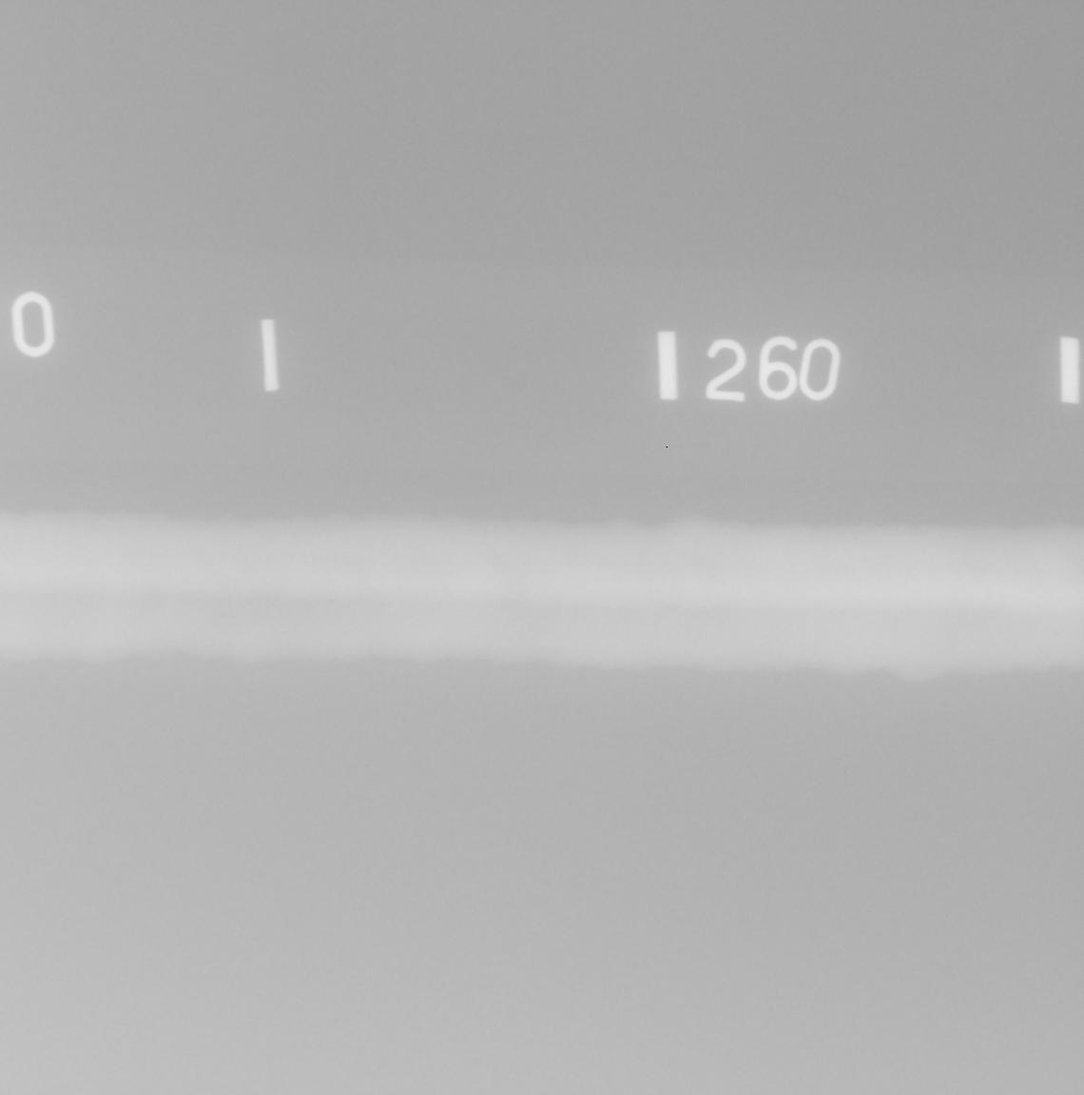Pore/Porosity: (326, 599, 335, 604)
